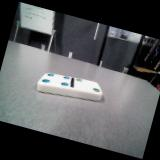domino: (36, 73, 101, 100)
